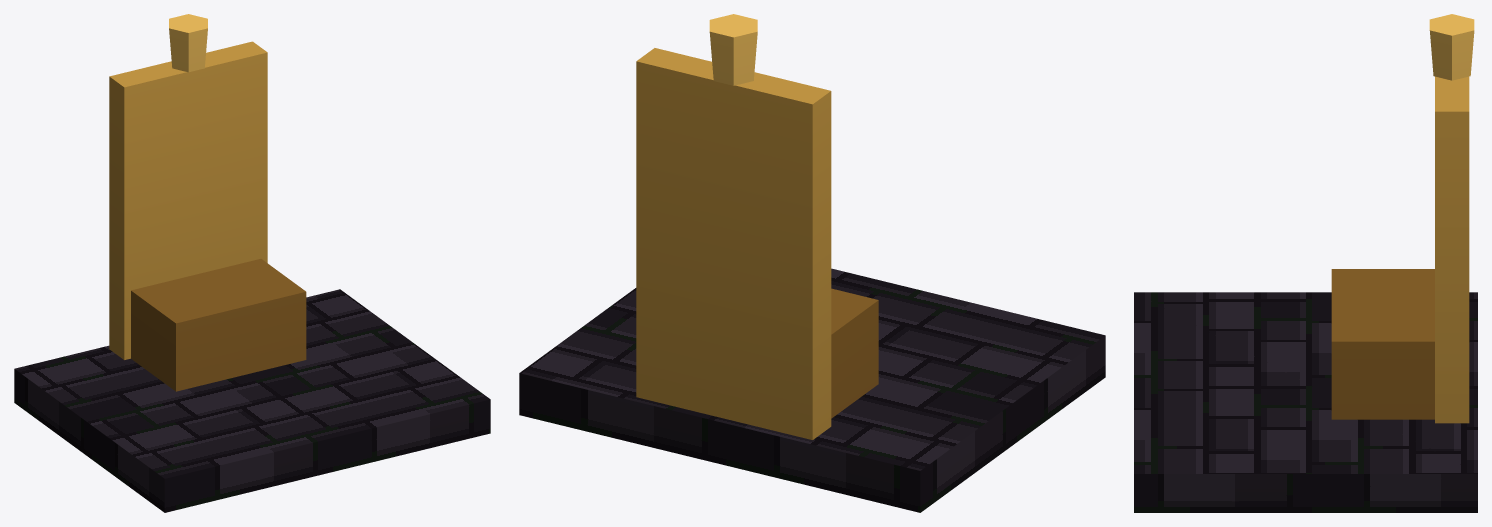
The model's file is crypt_throne.glb.
The picture shows the model from 3 angles, left to right: view 1: azimuth 30°, elevation 25°; view 2: azimuth 150°, elevation 25°; view 3: azimuth 270°, elevation 25°; orthographic projection. The views are drawn at different scales.
Parts seen in each view (by area): view 1: crypt_throne; view 2: crypt_throne; view 3: crypt_throne.
Part boxes in pixels (x1,y1,x2,y2): crypt_throne: (14, 14, 490, 512); crypt_throne: (519, 14, 1105, 512); crypt_throne: (1134, 14, 1477, 512).
Size of the model in its own units: 5 by 5.1 by 4.
3 materials, 1 textured.
